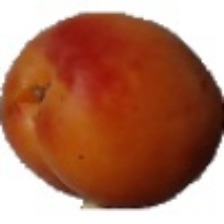apricot: (49, 29, 192, 206)
